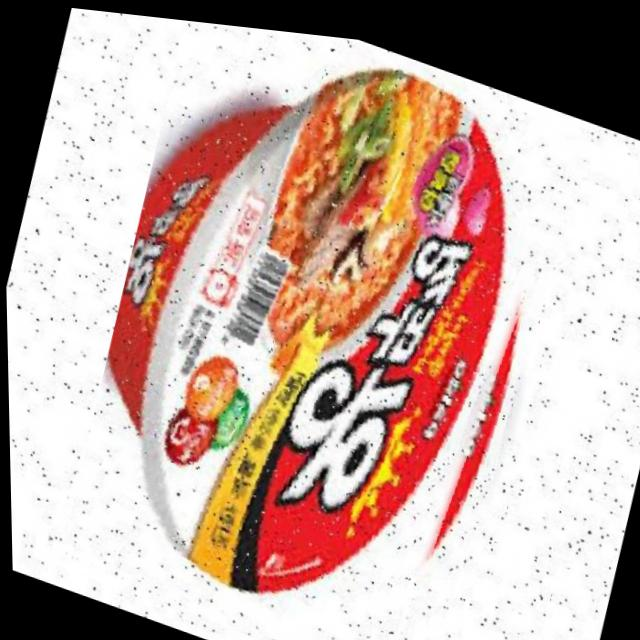Miscellaneous: (43, 4, 596, 640)
